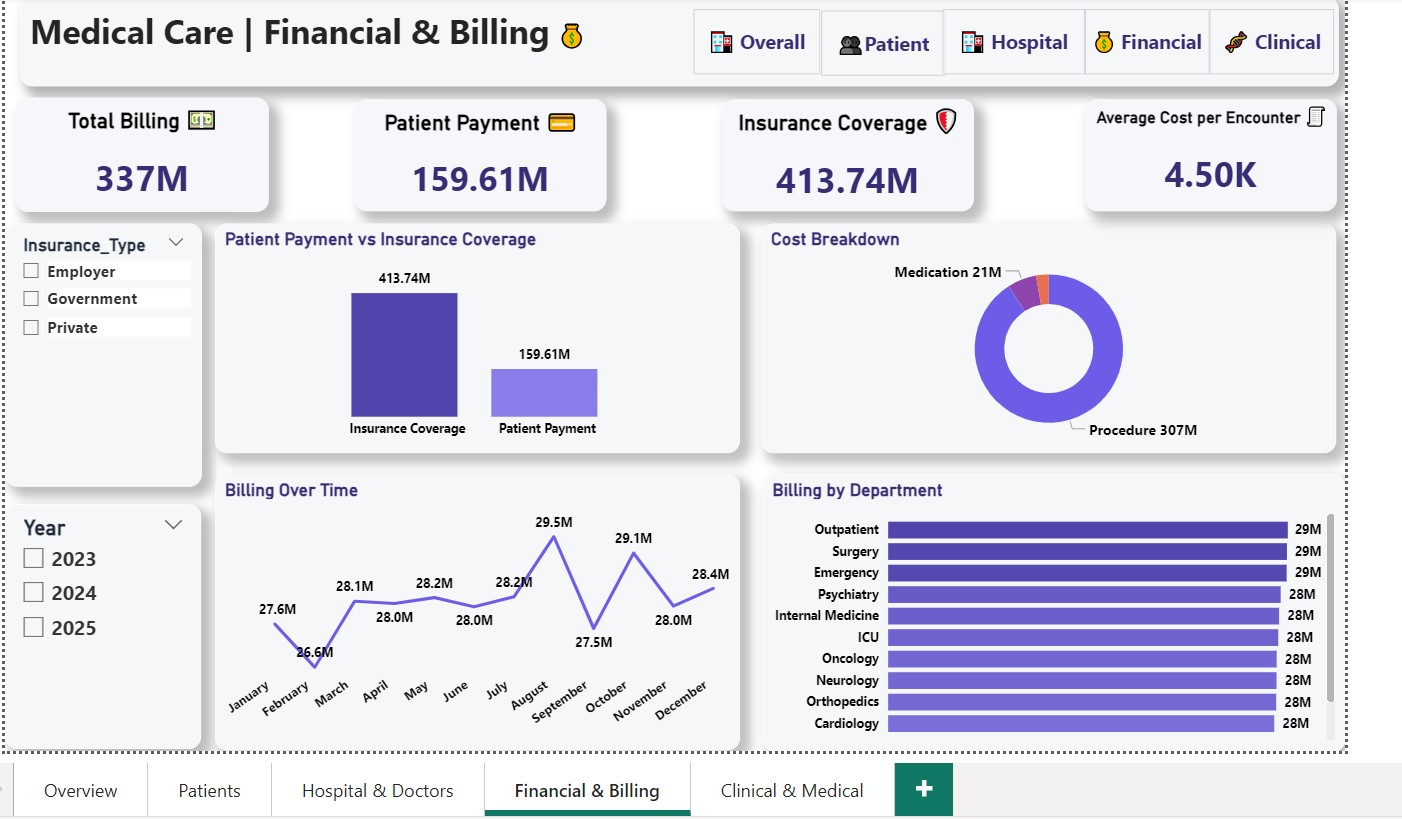

The dashboard page shown, as its layout file describes it:
{"tool":"powerbi","page":{"name":"Financial & Billing","canvas":[1280,720],"ordinal":3},"visuals":[{"type":"textbox","box":[14.3,0,1259,85],"z":0},{"type":"cardVisual","title":"Total Billing 💵","fields":{"Data":["Table.Total Billing"]},"box":[10.6,95.4,242.3,109],"z":1000},{"type":"cardVisual","title":"Insurance Coverage 🛡️","fields":{"Data":["Sum(Fact_Billing.Insurance_Coverage)"]},"box":[684.4,96.9,240.8,107.5],"z":2000},{"type":"cardVisual","title":"Patient Payment 💳","fields":{"Data":["Sum(Fact_Billing.Patient_Payment)"]},"box":[333.1,96.9,240.8,107.5],"z":3000},{"type":"slicer","fields":{"Values":["Dim_Insurance.Type"]},"box":[0,216.3,187.7,251.3],"z":4000},{"type":"slicer","fields":{"Values":["Dim_Date.Date.Variation.Date Hierarchy.Year"]},"box":[0,484.7,187.1,234.2],"z":5000},{"type":"donutChart","title":"Cost Breakdown","fields":{"Y":["Table.Cost Breakdown"],"Category":["Cost type.Cost Type"]},"box":[722.3,216.5,549.7,219.6],"z":10000},{"type":"lineChart","title":"Billing Over Time","fields":{"Category":["Dim_Date.Date.Variation.Date Hierarchy.Month"],"Y":["Table.Total Billing"]},"box":[200.4,454.9,501,264],"z":11000},{"type":"clusteredBarChart","title":"Billing by Department","fields":{"Category":["Dim_Department.Department_Name"],"Y":["Table.Total Billing"]},"box":[723.3,455,556.7,265],"z":12000},{"type":"cardVisual","title":"Average Cost per Encounter 🧾","fields":{"Data":["Table.Average Cost per Encounter"]},"box":[1031.2,97.6,240.7,107.4],"z":13000},{"type":"clusteredColumnChart","title":"Patient Payment vs Insurance Coverage","fields":{"Category":["Payment type.Payment Type"],"Y":["Table.Payment Comparison"]},"box":[200.4,216.3,501,219.5],"z":14000},{"type":"actionButton","title":"🏠 Executive","box":[657.6,11.3,120.9,62.4],"z":14001},{"type":"actionButton","title":"🏠 Executive","box":[778.6,13.2,119.1,62.4],"z":14002},{"type":"actionButton","title":"🏠 Executive","box":[895.8,11.3,136.1,62.4],"z":14003},{"type":"actionButton","title":"🏠 Executive","box":[1031.8,11.3,119.1,62.4],"z":14004},{"type":"actionButton","title":"🏠 Executive","box":[1150.9,11.3,119.1,62.4],"z":14005}]}

Visuals, with their boxes on the page's 1280x720 design canvas (x1, y1, x2, y2). These are canvas units, not pixel positions in the 1402x819 screenshot, which may show the page scaled, cropped or inside an application window:
textbox: <region>14, 0, 1273, 85</region>
"Total Billing 💵" cardVisual: <region>11, 95, 253, 204</region>
"Insurance Coverage 🛡️" cardVisual: <region>684, 97, 925, 204</region>
"Patient Payment 💳" cardVisual: <region>333, 97, 574, 204</region>
slicer - Dim_Insurance.Type: <region>0, 216, 188, 468</region>
slicer - Dim_Date.Date.Variation.Date Hierarchy.Year: <region>0, 485, 187, 719</region>
"Cost Breakdown" donutChart: <region>722, 216, 1272, 436</region>
"Billing Over Time" lineChart: <region>200, 455, 701, 719</region>
"Billing by Department" clusteredBarChart: <region>723, 455, 1280, 720</region>
"Average Cost per Encounter 🧾" cardVisual: <region>1031, 98, 1272, 205</region>
"Patient Payment vs Insurance Coverage" clusteredColumnChart: <region>200, 216, 701, 436</region>
"🏠 Executive" actionButton: <region>658, 11, 778, 74</region>
"🏠 Executive" actionButton: <region>779, 13, 898, 76</region>
"🏠 Executive" actionButton: <region>896, 11, 1032, 74</region>
"🏠 Executive" actionButton: <region>1032, 11, 1151, 74</region>
"🏠 Executive" actionButton: <region>1151, 11, 1270, 74</region>
